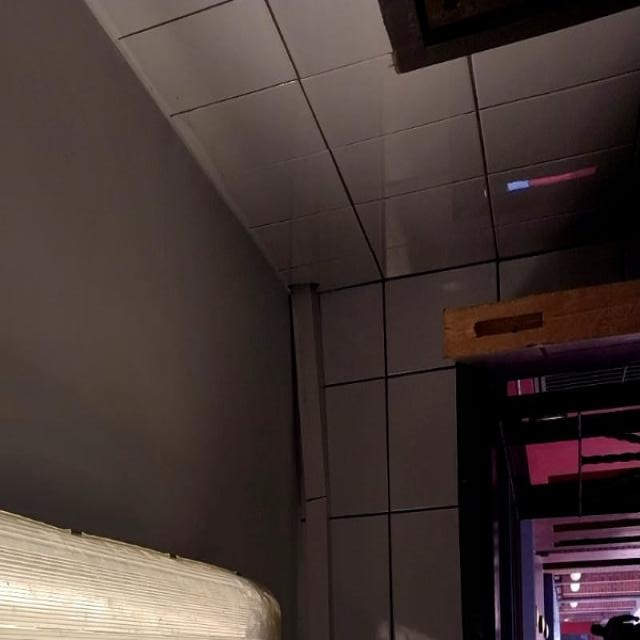fluorescent tube: (0, 379, 340, 640)
